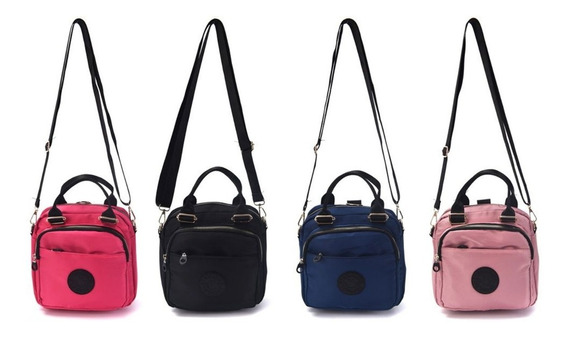cartera: (429, 19, 543, 317), (29, 18, 139, 318), (157, 18, 268, 315), (296, 21, 408, 314)
